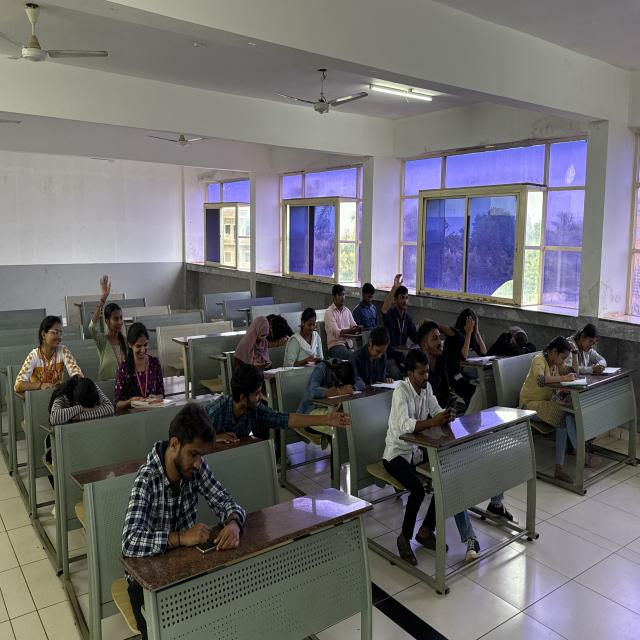Hand Rising: (89, 279, 129, 383), (383, 280, 419, 380), (344, 324, 388, 398), (321, 285, 356, 357), (352, 284, 379, 338)
Reading: (441, 310, 479, 408)
Sleeping: (47, 377, 119, 513), (292, 355, 348, 487), (482, 322, 532, 408)
Using Phone: (118, 400, 246, 640), (11, 311, 85, 504), (380, 347, 470, 472), (233, 313, 285, 442), (112, 322, 164, 414), (284, 310, 321, 370)
Writing: (560, 326, 609, 456)
